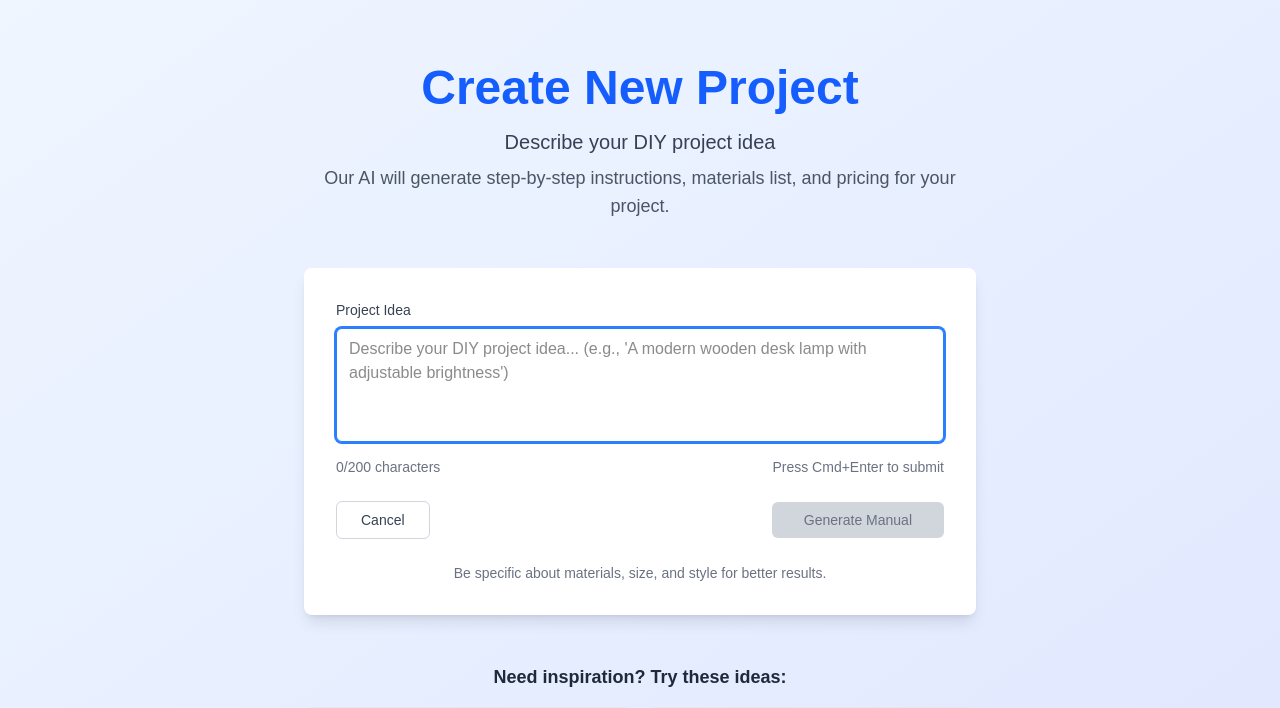
Test case: TextInput Component › Input Validation › should validate input in real-time
The image size is (1280, 708).
// Type invalid input (too short)
Type "ab" into the text box labelled "Project Idea". click: [640, 385]
box: [336,328,944,442]
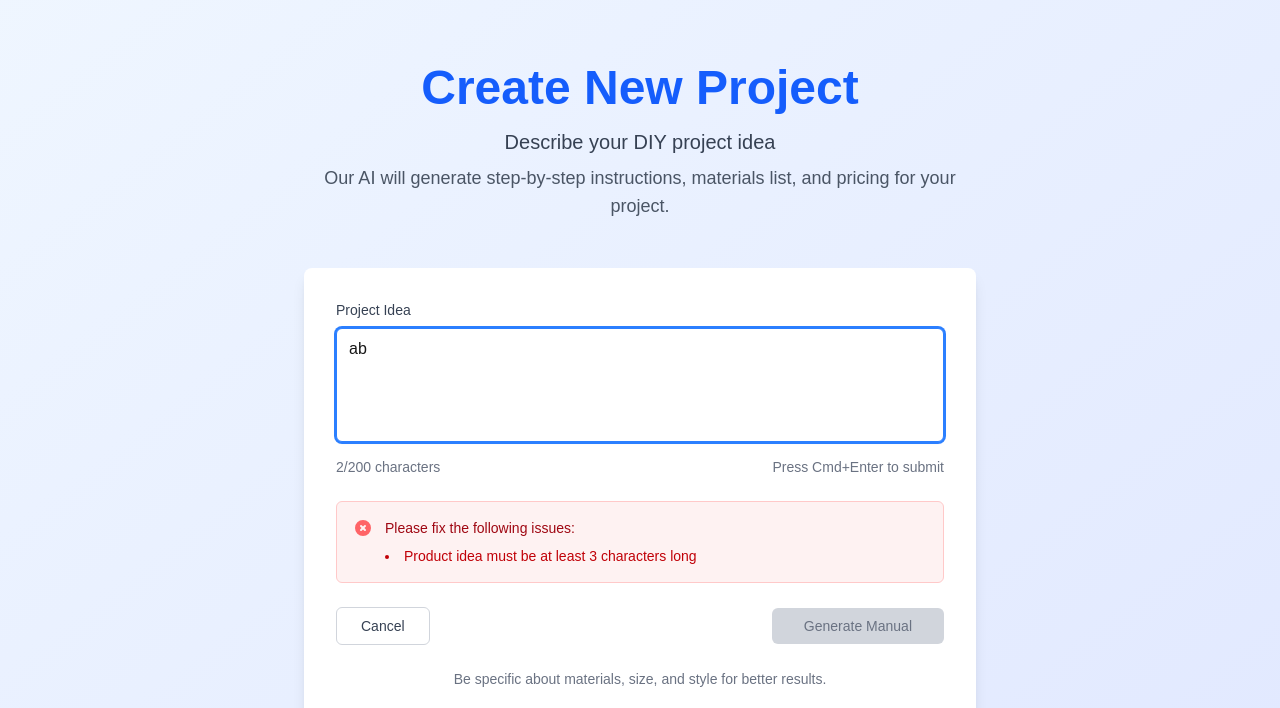
Check: the heading "Please fix the following issues:" is shown, box [385,520,575,536]
Check: the list item "Product idea must be at least 3 characters long" is shown, box [385,546,697,566]
